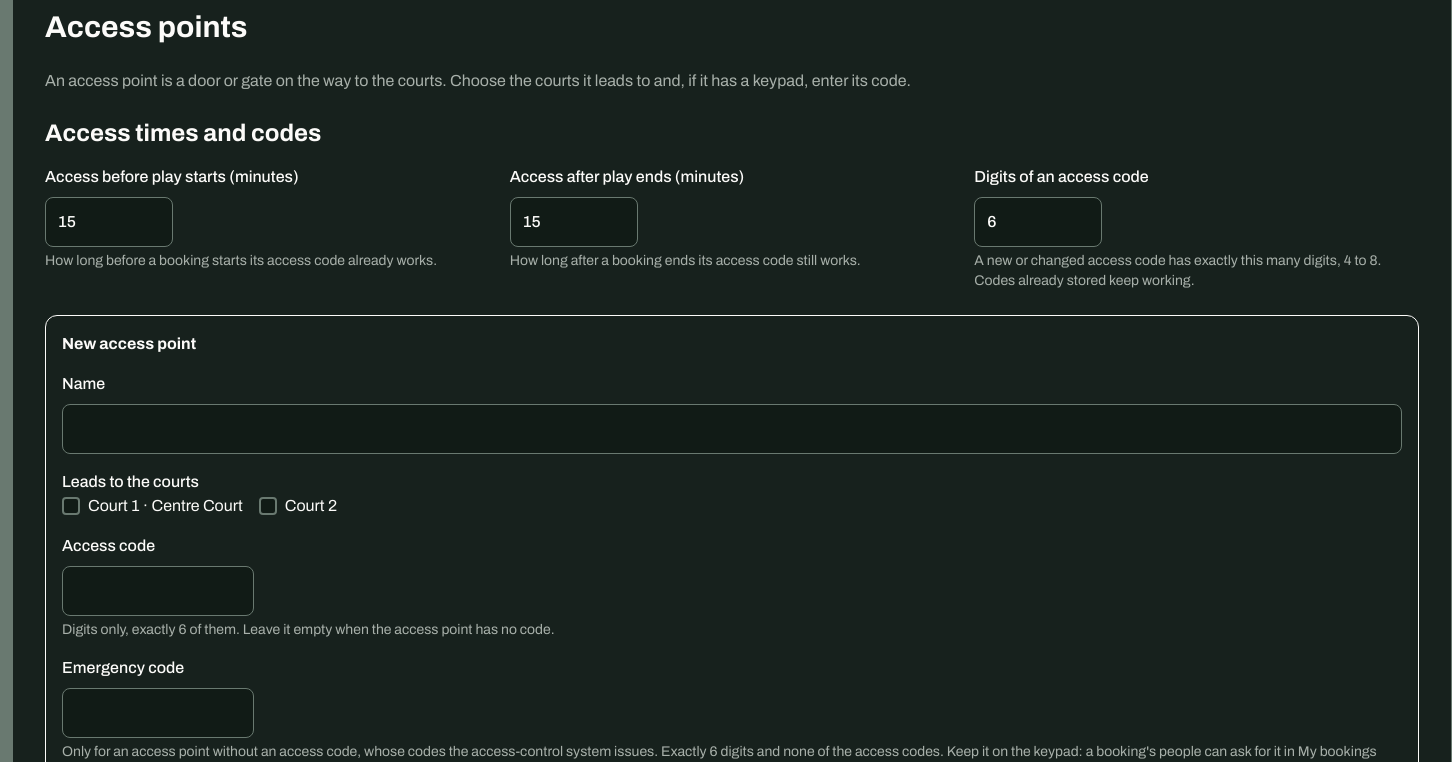
Test: AdminAccessPointsView › given the create form, when the board keeps an emergency code for a gate without a code, then the request and the summary carry it
The width and height of the screenshot is (1452, 762).
Type "West gate" into the field with test id "new-access-point-name" at (732,429), box top-left (62, 404), bottom-right (1402, 454)
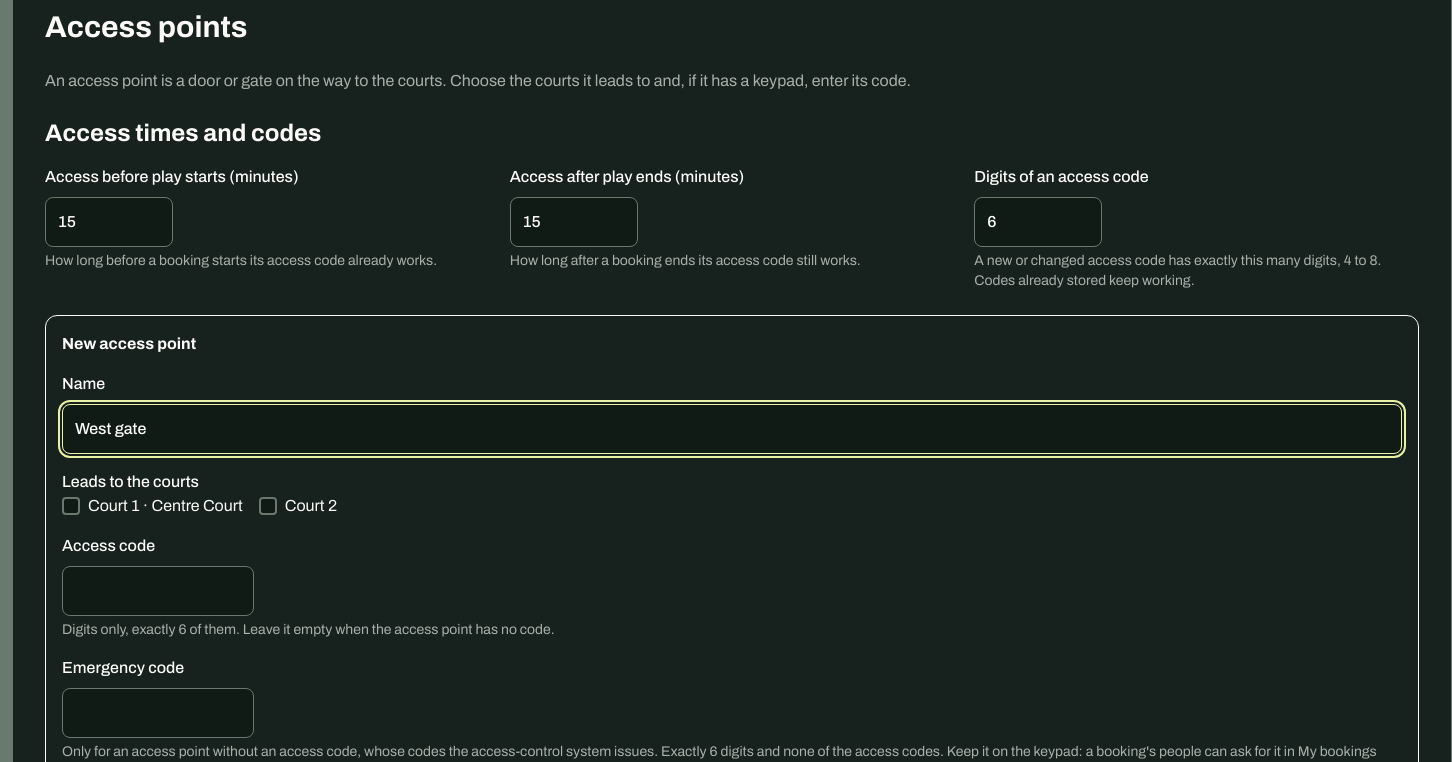
Click the checkbox with test id "new-access-point-court-court-1" at (71,506), box top-left (62, 497), bottom-right (80, 515)
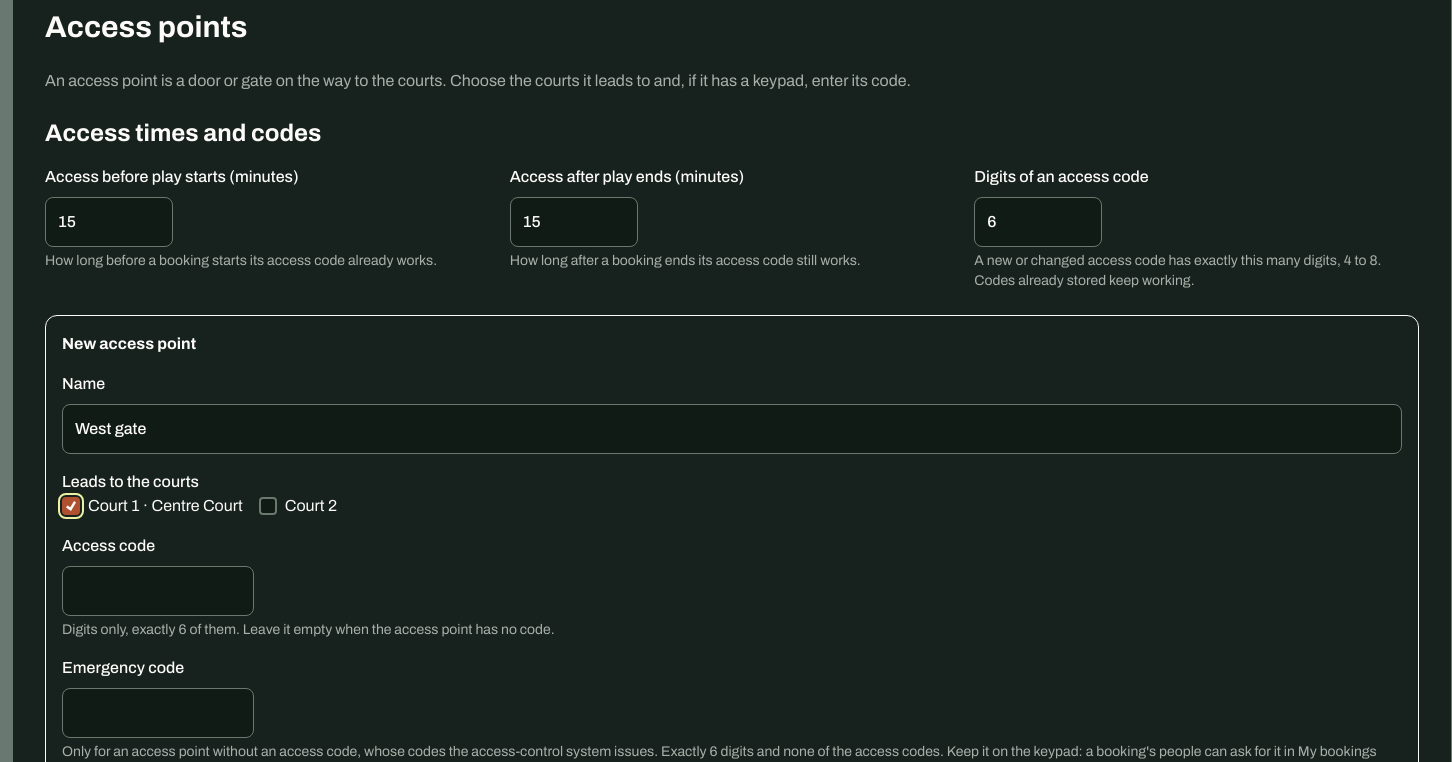
Type "975310" into the field with test id "new-access-point-emergency" at (158,713), box top-left (62, 688), bottom-right (254, 738)
(page scrolled)
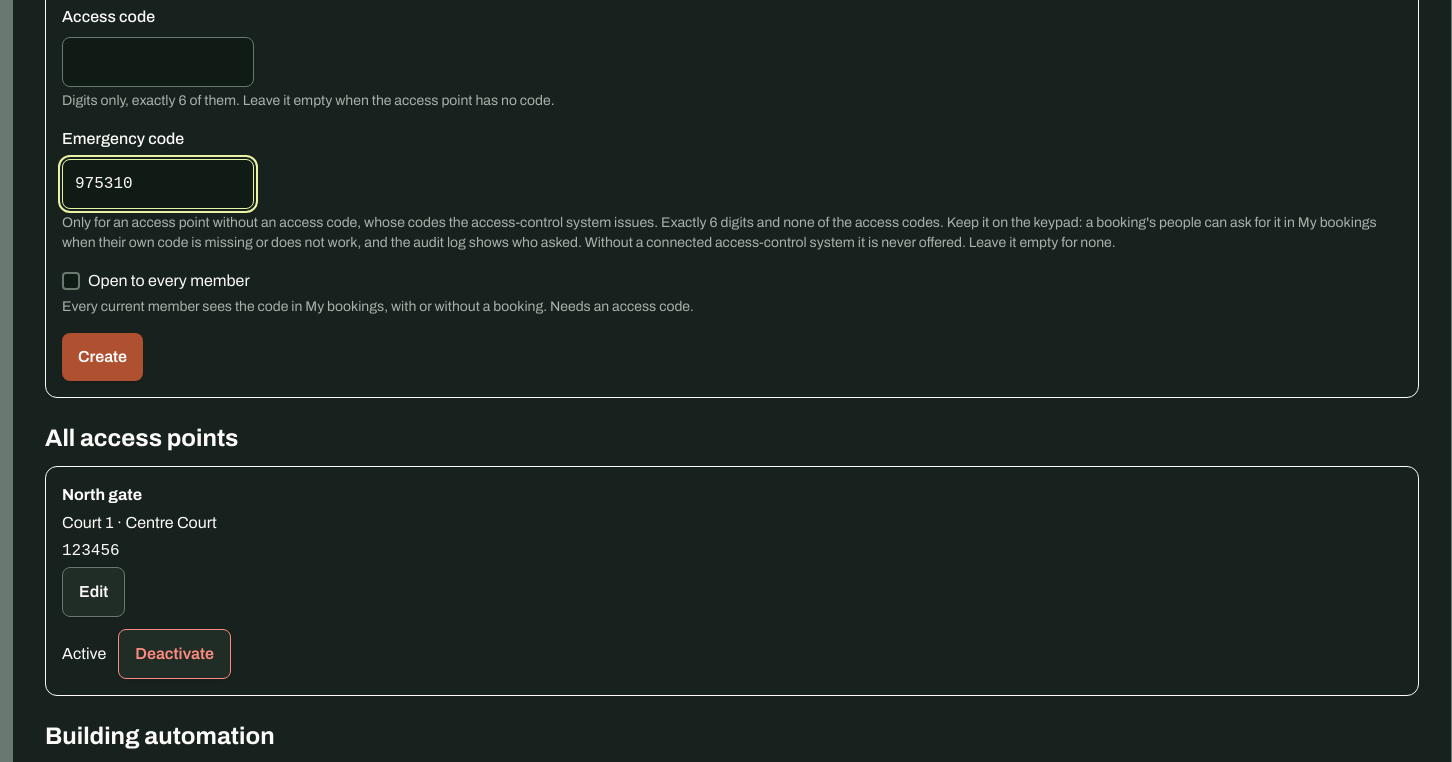
Click the button with test id "create-access-point" at (102,357), box top-left (62, 333), bottom-right (143, 381)
(page scrolled)
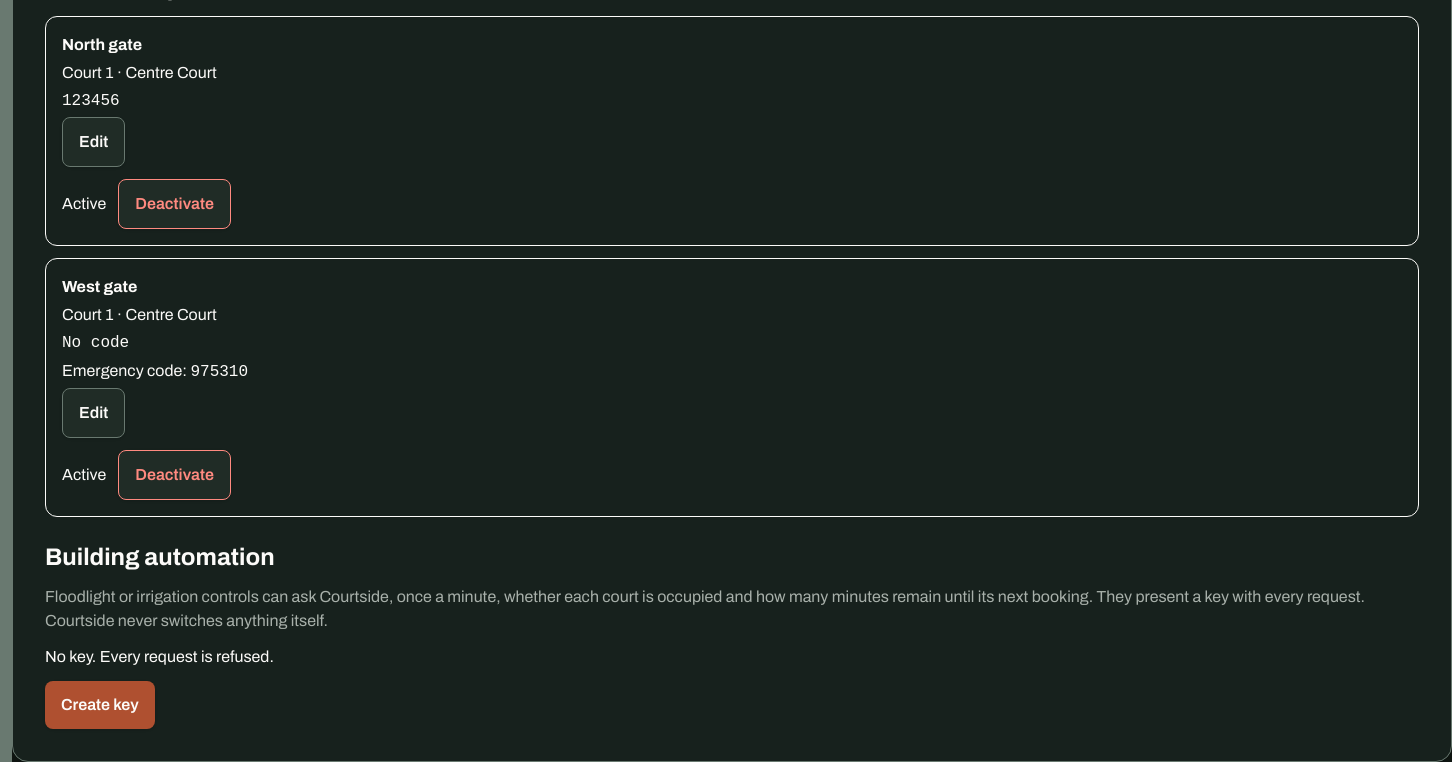
Expected: the element with test id "access-point-emergency-code-gate-3" shows "975310", top-left (190, 363), bottom-right (248, 381)
